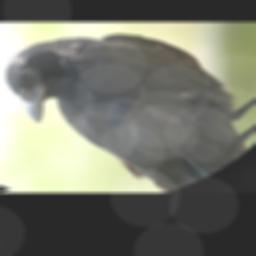Crow: (2, 32, 256, 192)
